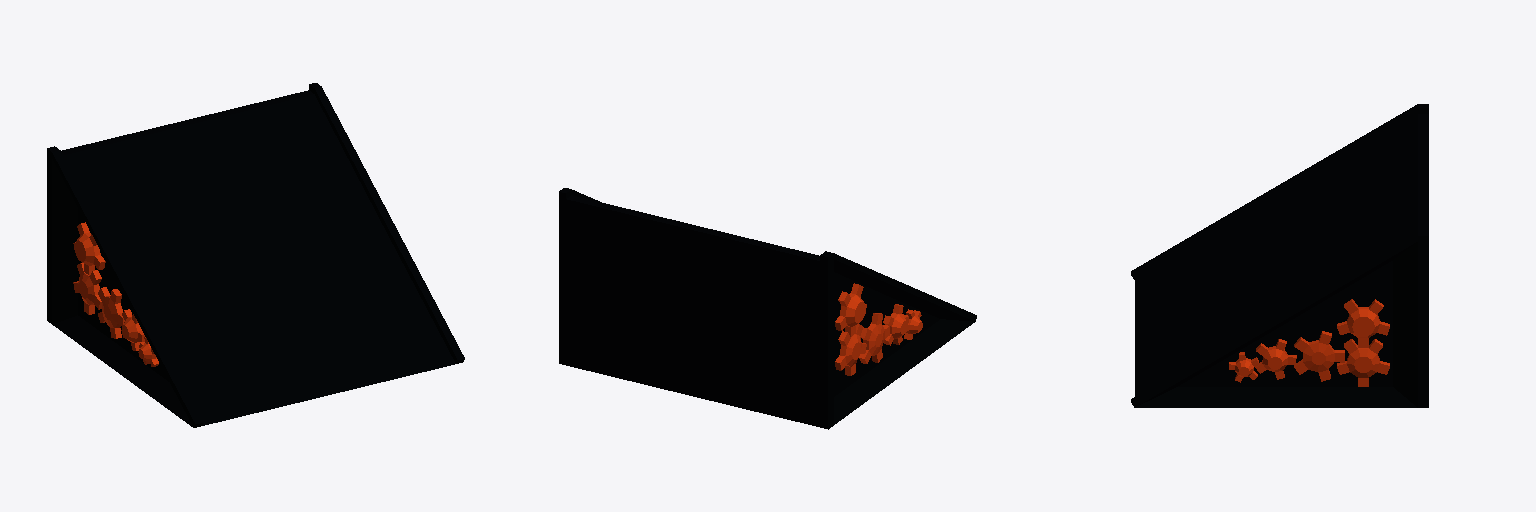
The model's file is ramp_gears.obj.
The picture shows the model from 3 angles: view 1: azimuth 30°, elevation 25°; view 2: azimuth 150°, elevation 25°; view 3: azimuth 270°, elevation 25°; orthographic projection.
Parts seen in each view (by area): view 1: ramp, gears; view 2: ramp, gears; view 3: ramp, gears.
Part boxes in pixels (x1,y1,x2,y2): ramp: (47,83,464,427); gears: (73,222,158,366); ramp: (559,188,976,429); gears: (835,283,922,375); ramp: (1131,104,1428,407); gears: (1229,299,1389,386).
Size of the model in its own units: 4.67 by 2.85 by 4.47.